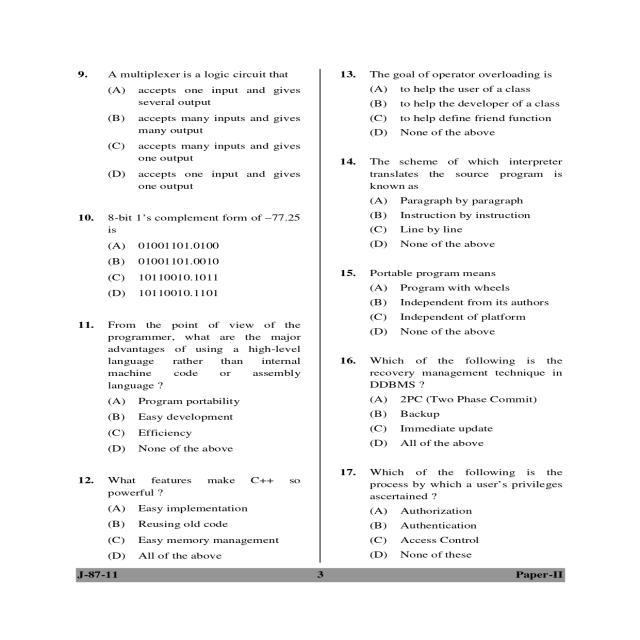Answer_Block: (68, 84, 309, 196), (69, 501, 310, 564), (68, 240, 312, 300), (70, 396, 308, 456), (330, 392, 568, 452), (330, 502, 570, 561), (330, 281, 570, 339), (332, 82, 568, 140), (330, 194, 568, 248)
Question_Answer_Block: (69, 313, 309, 456), (69, 64, 311, 194), (69, 202, 312, 300), (330, 352, 570, 451), (330, 462, 570, 560), (69, 467, 311, 564), (330, 156, 571, 249), (330, 260, 569, 340), (332, 65, 569, 140)
Question_Block: (70, 314, 310, 392), (330, 352, 570, 392), (330, 462, 569, 502), (330, 156, 569, 192), (68, 203, 312, 238), (70, 467, 310, 499), (330, 260, 570, 280), (70, 64, 310, 82), (332, 66, 568, 82)
Question_Paper_Area: (70, 65, 311, 563), (330, 65, 571, 561)
